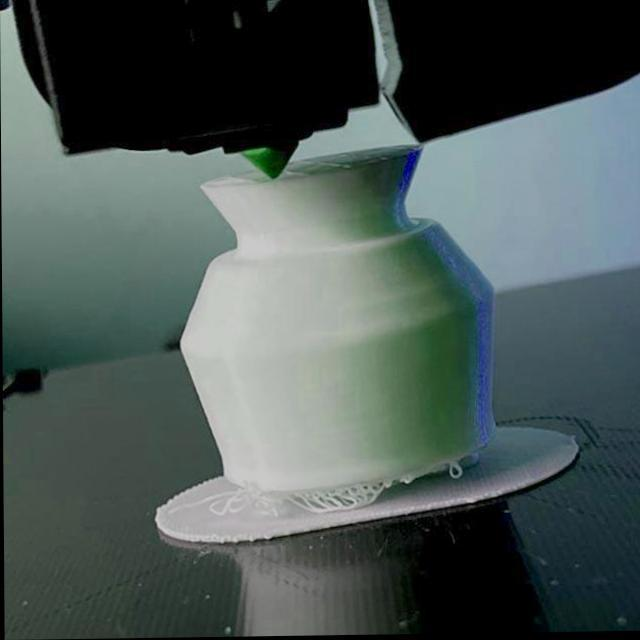spaghetti: (165, 472, 398, 521)
